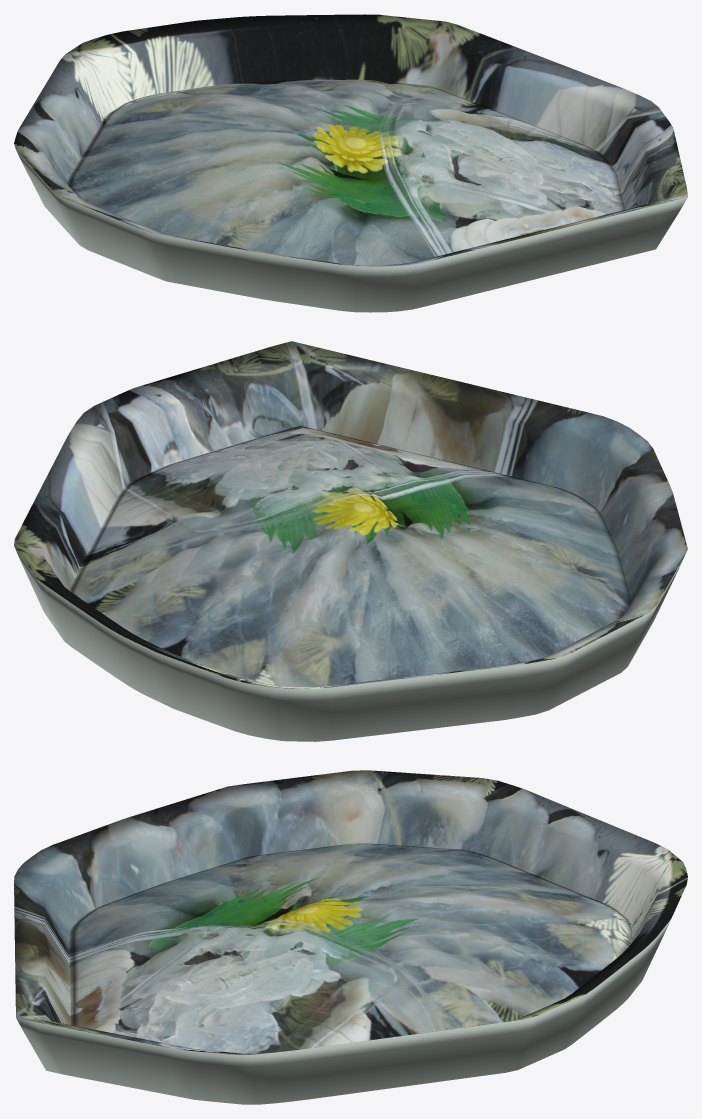
File: blender-approx-v002.glb
The picture shows the model from 3 angles, top to bottom: view 1: azimuth 30°, elevation 25°; view 2: azimuth 150°, elevation 25°; view 3: azimuth 270°, elevation 25°; orthographic projection. The views are drawn at different scales.
Parts seen in each view (by area): view 1: APPROX_CONTAINER_21cm, ILLUSTRATIVE_FOOD_RELIEF_not_reconstruction; view 2: ILLUSTRATIVE_FOOD_RELIEF_not_reconstruction, APPROX_CONTAINER_21cm; view 3: ILLUSTRATIVE_FOOD_RELIEF_not_reconstruction, APPROX_CONTAINER_21cm.
Boxes of the visible parts, x1=… form: APPROX_CONTAINER_21cm: x1=14, y1=14, x2=687, y2=312; ILLUSTRATIVE_FOOD_RELIEF_not_reconstruction: x1=67, y1=79, x2=624, y2=265; ILLUSTRATIVE_FOOD_RELIEF_not_reconstruction: x1=69, y1=425, x2=630, y2=686; APPROX_CONTAINER_21cm: x1=14, y1=341, x2=687, y2=741; ILLUSTRATIVE_FOOD_RELIEF_not_reconstruction: x1=69, y1=843, x2=632, y2=1053; APPROX_CONTAINER_21cm: x1=14, y1=770, x2=687, y2=1104.
Size of the model in its own units: 0.21 by 0.025 by 0.21.
2 materials, 1 textured.
